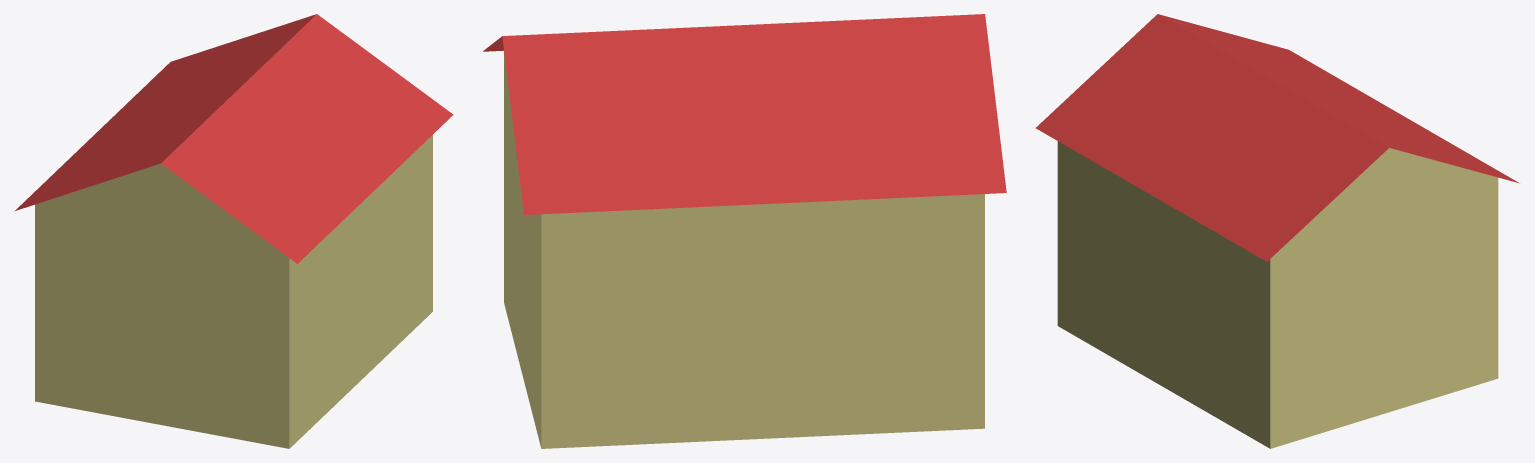
3 renders of one model, left to right at view 1: azimuth 30°, elevation 25°; view 2: azimuth 150°, elevation 25°; view 3: azimuth 270°, elevation 25°, orthographic. The views are drawn at different scales.
Bounding box in the file's own units: 15.83 × 15.29 × 9.48.
